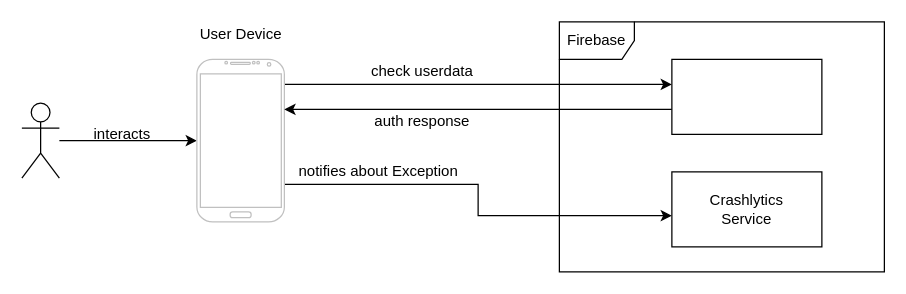
This 906x294 diagram has some shape labels left out. The shapes that lost their labels are listed below. From the top down, each one's centre as x and y in pixels, then its label:
At pixel 746 96: "Authentication Service".
At pixel 40 140: "User".
